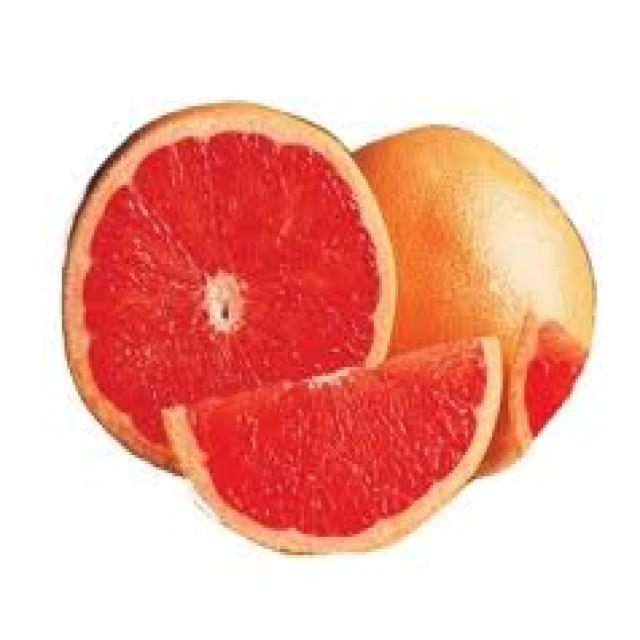greapefurit: (48, 91, 600, 558)
